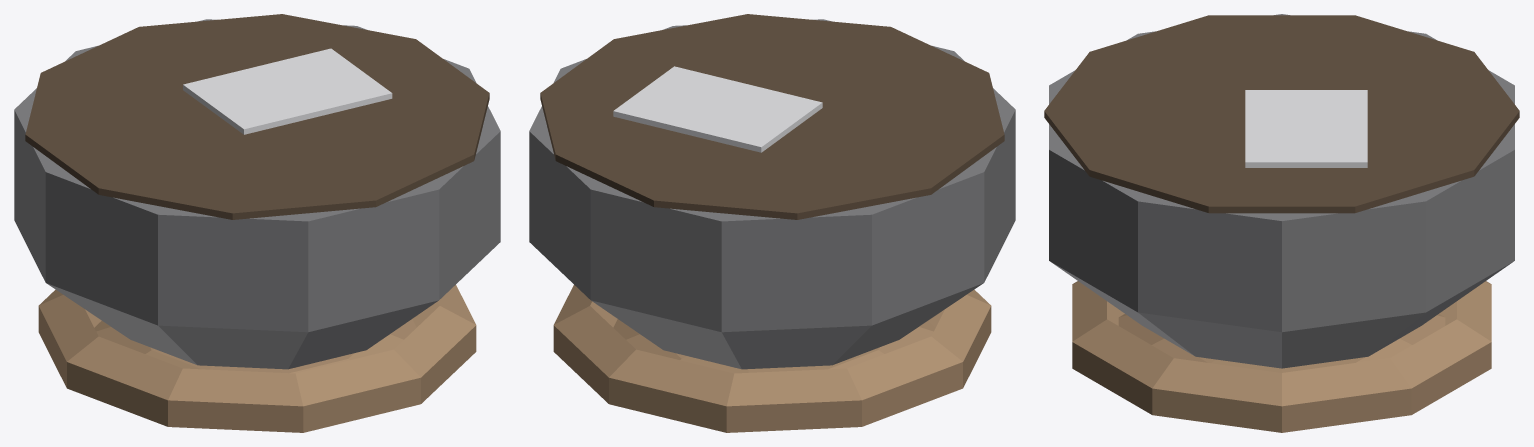
Rendered from prop-pitch-bowl-ss1.fbx.
3 renders of one model, left to right at view 1: azimuth 30°, elevation 25°; view 2: azimuth 150°, elevation 25°; view 3: azimuth 270°, elevation 25°, orthographic.
Parts seen in each view (by area): view 1: prop-pitch-bowl-ss1; view 2: prop-pitch-bowl-ss1; view 3: prop-pitch-bowl-ss1.
Boxes of the visible parts, bbox=[...] form: prop-pitch-bowl-ss1: bbox=[14, 14, 500, 432]; prop-pitch-bowl-ss1: bbox=[529, 14, 1015, 432]; prop-pitch-bowl-ss1: bbox=[1044, 14, 1519, 432].
Bounding box in the file's own units: 20 × 10.55 × 19.4.
